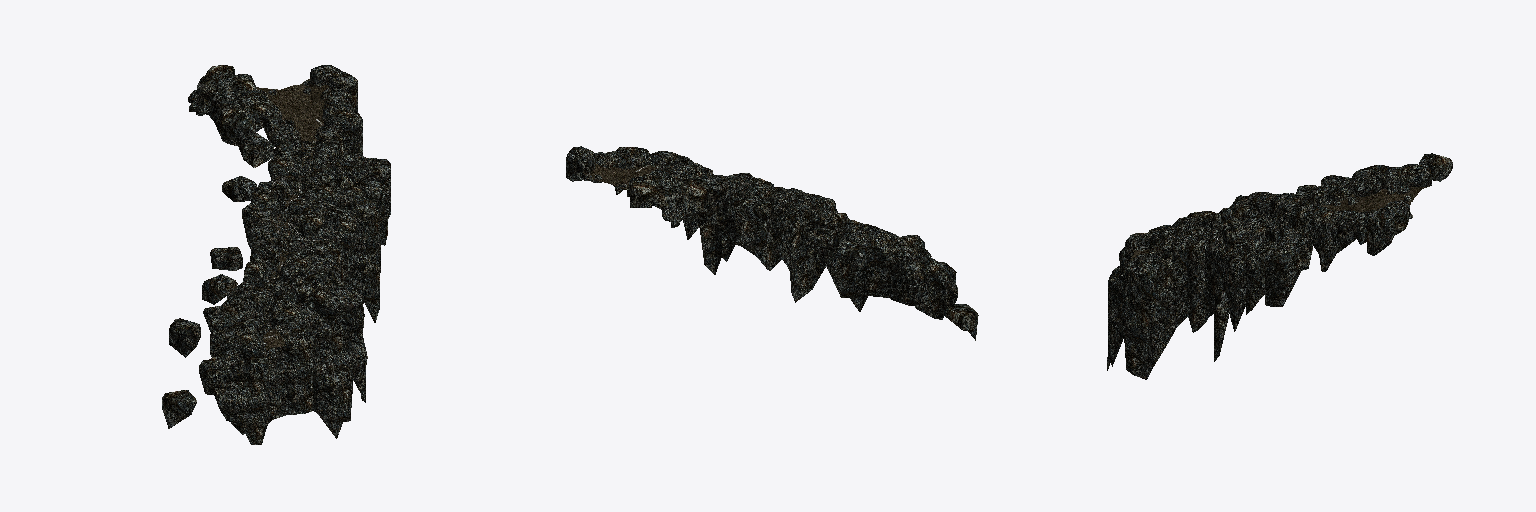
3 renders of one model, left to right at view 1: azimuth 30°, elevation 25°; view 2: azimuth 150°, elevation 25°; view 3: azimuth 270°, elevation 25°, orthographic.
Visible parts, largest first — view 1: mesh0, mesh2, mesh1; view 2: mesh0, mesh2, mesh1; view 3: mesh2, mesh0, mesh1.
Part boxes in pixels (left/top/right/bottom): mesh0: left=162, top=65, right=390, bottom=428; mesh2: left=199, top=73, right=390, bottom=444; mesh1: left=256, top=79, right=329, bottom=349; mesh0: left=566, top=146, right=978, bottom=340; mesh2: left=566, top=159, right=957, bottom=319; mesh1: left=583, top=162, right=828, bottom=224; mesh2: left=1107, top=194, right=1408, bottom=379; mesh0: left=1108, top=153, right=1452, bottom=328; mesh1: left=1131, top=186, right=1429, bottom=257.
Size of the model in its own units: 53.51 by 40.77 by 53.71.
Materials: 5 (3 with a texture image).